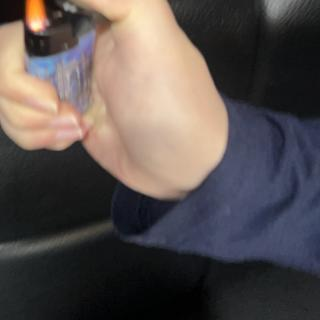fire: (23, 0, 50, 32)
